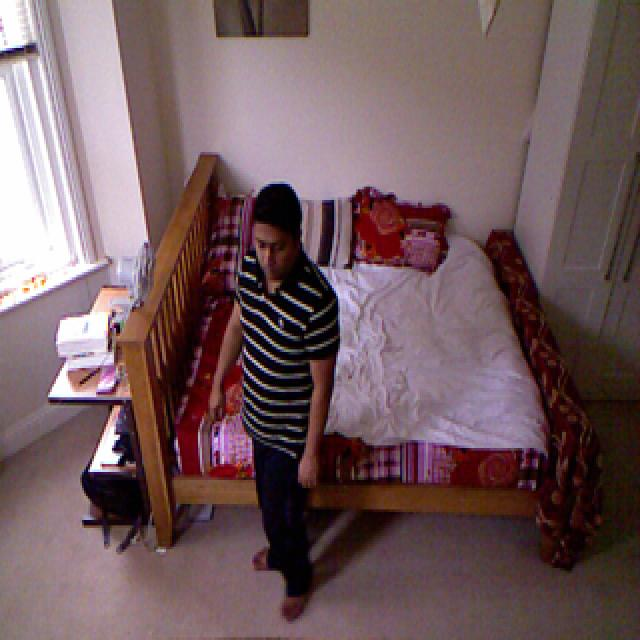standing: (236, 176, 346, 608)
